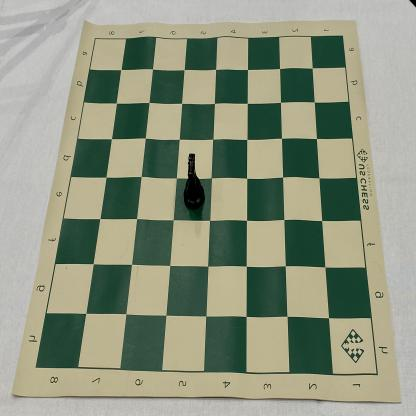black-knight: (184, 152, 205, 210)
